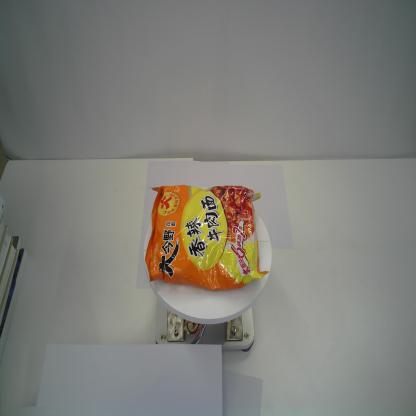Instant Noodles: (144, 183, 272, 292)
